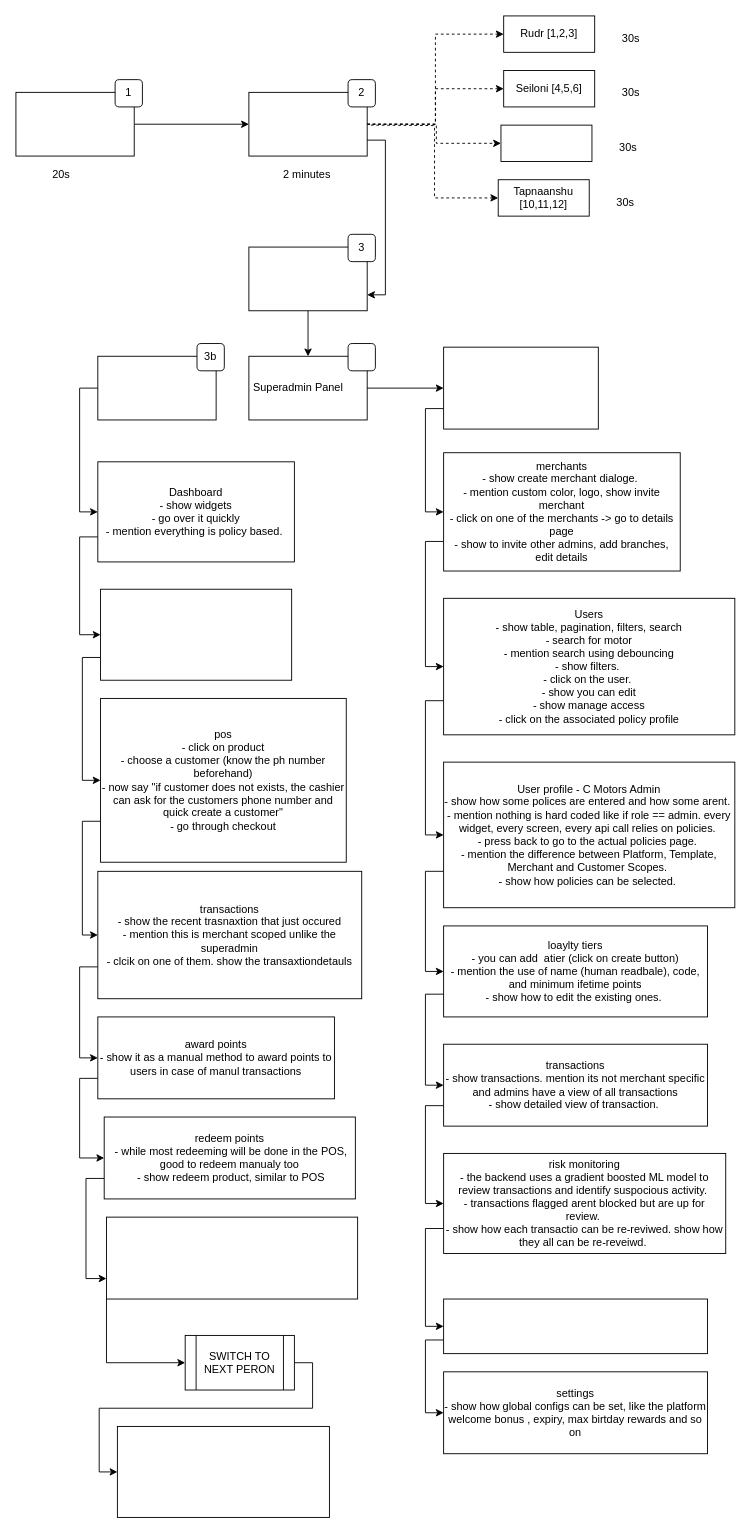
Image size: 751x1533. Some labels were removed from this diagram. The shapes that lost their labels are listed below. From the top down, each one's box as (x1, y1, x2, y2) in pixels, then its label:
(15, 91, 134, 156): Introduction - who are we - roles
(248, 91, 367, 156): Go over powerpoint
(500, 124, 592, 162): Rishal [7,8,9]
(248, 246, 367, 311): Go over system
(347, 343, 375, 371): 3a
(97, 355, 216, 420): Merchant Dashbard
(443, 346, 598, 429): overview page - mention the analytcis - mention the quick actions
(100, 588, 292, 680): Products - Create product. - multiple images - xls import - edit product
(106, 1216, 358, 1299): customer - click on one customer - show trans
(443, 1298, 708, 1354): audit log - just mention that everything is logged and tracked
(116, 1426, 329, 1517): tour guid - in case you forgot how to use the system, you can always click here
